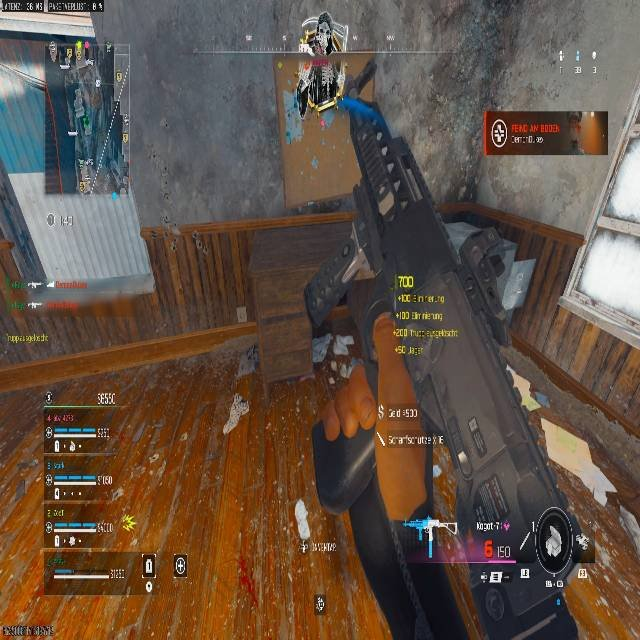player: (296, 11, 346, 126)
